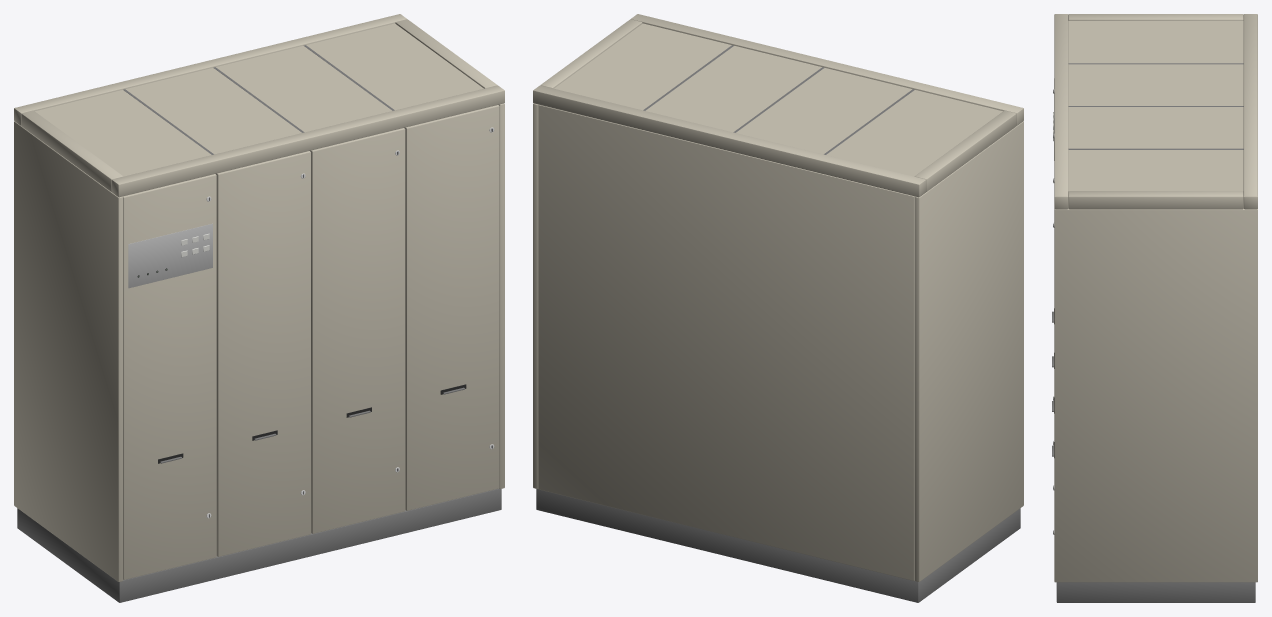
The model's file is Kit_CRACUnit_Off.fbx.
3 views of the same model, side by side, from view 1: azimuth 30°, elevation 25°; view 2: azimuth 150°, elevation 25°; view 3: azimuth 270°, elevation 25° (orthographic). The views are drawn at different scales.
Visible parts, largest first — view 1: Kit_CRACUnit_LOD0; view 2: Kit_CRACUnit_LOD0; view 3: Kit_CRACUnit_LOD0.
Part boxes in pixels (box(x1,y1,x2,y2)): Kit_CRACUnit_LOD0: box(14, 14, 504, 602); Kit_CRACUnit_LOD0: box(533, 14, 1023, 602); Kit_CRACUnit_LOD0: box(1052, 14, 1257, 602).
Size of what is drawn, in the model's own units: 1.83 by 1.9 by 0.87.
